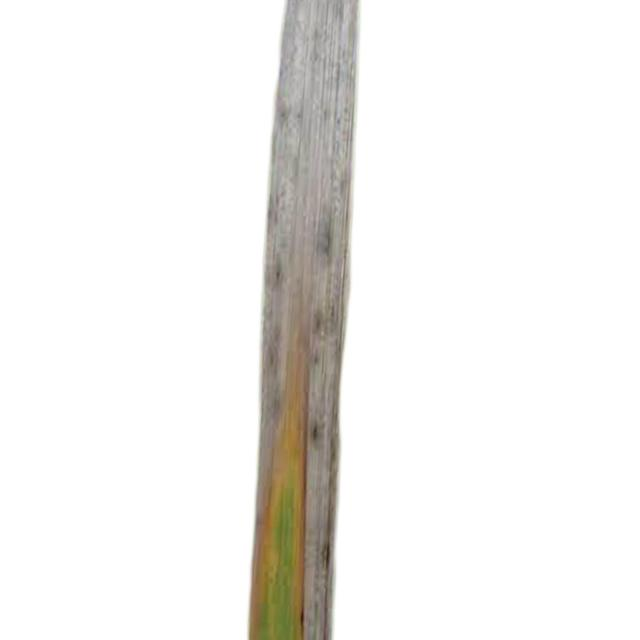Leaf scald: (158, 0, 472, 640)
